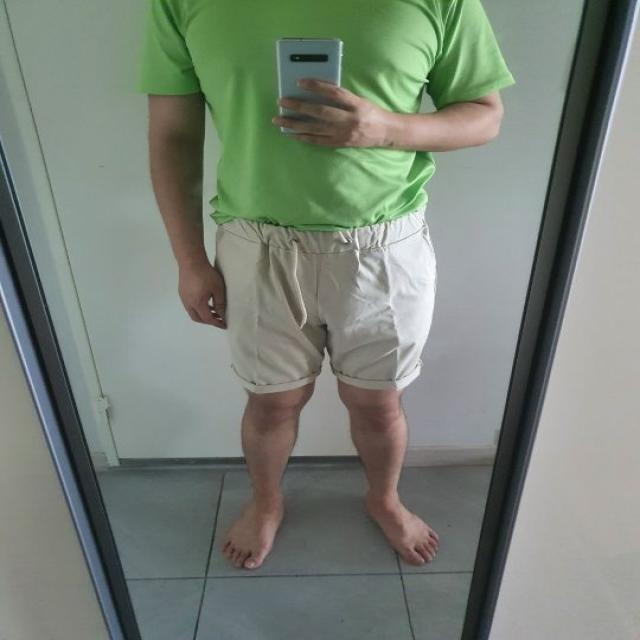shortpants: (216, 216, 438, 394)
shortsleeve: (137, 0, 512, 230)
